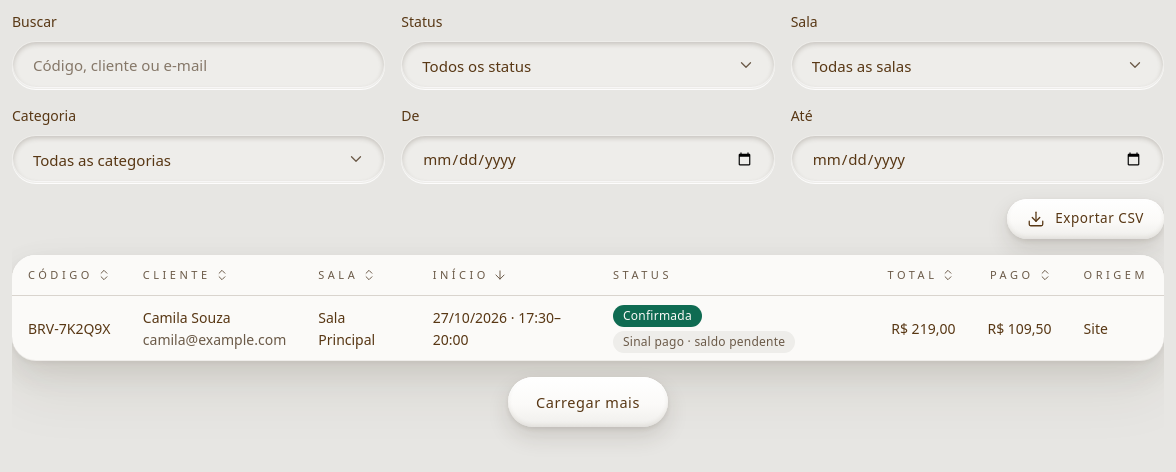
Test: BookingsListPage pagination and export (NUC-179) › appends the next cursor page on "Carregar mais"
This screenshot has width=1176, height=472.
Expected: the text "BRV-7K2Q9X" is shown, [12, 296, 127, 361]
Expected: the text "BRV-9M4T2B" is not shown
Click the button "Carregar mais": (588, 402) [508, 377, 668, 427]
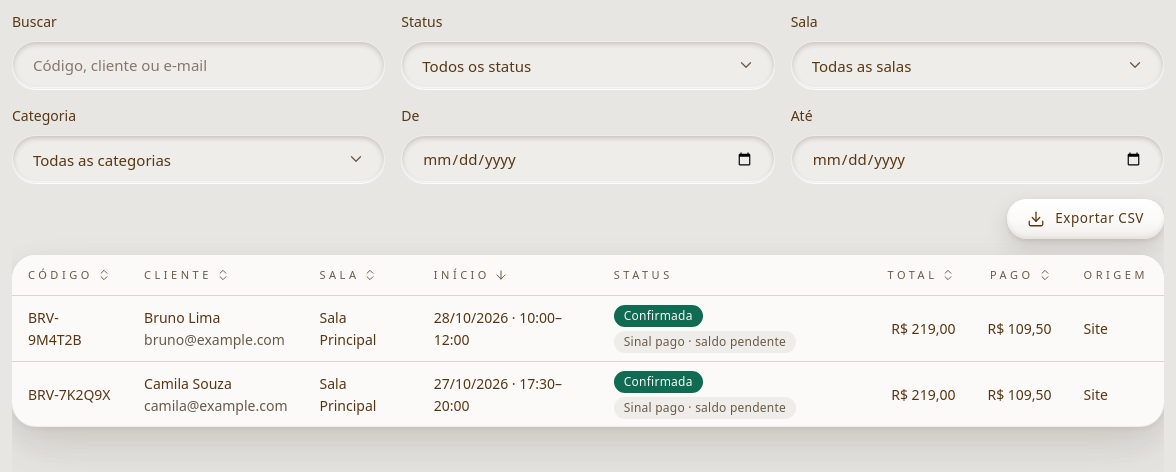
Expected: the text "BRV-7K2Q9X" is shown, [12, 362, 128, 427]
Now the text "BRV-9M4T2B" is shown, box [12, 296, 128, 362]
Now the button "Carregar mais" is gone
